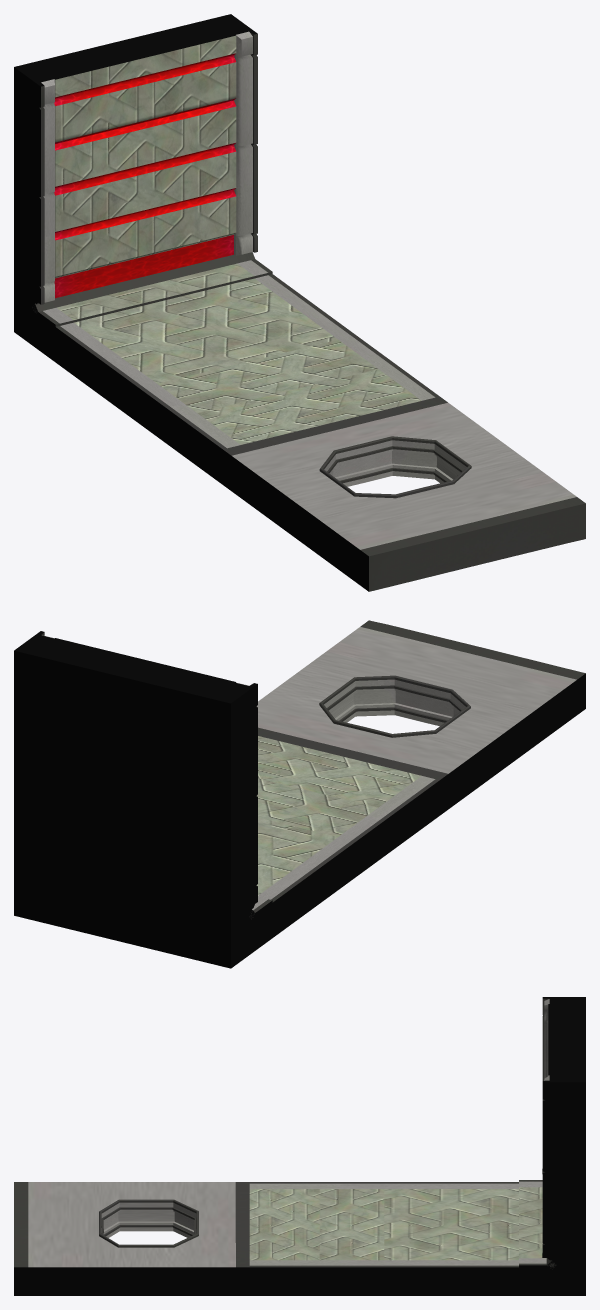
File: FloorWithHole.fbx
3 renders of one model, top to bottom at view 1: azimuth 30°, elevation 25°; view 2: azimuth 150°, elevation 25°; view 3: azimuth 270°, elevation 25°, orthographic. The views are drawn at different scales.
Parts seen in each view (by area): view 1: FloorWithMaintenanceHole; view 2: FloorWithMaintenanceHole; view 3: FloorWithMaintenanceHole.
Boxes of the visible parts, x1=… form: FloorWithMaintenanceHole: x1=14, y1=14, x2=585, y2=591; FloorWithMaintenanceHole: x1=14, y1=620, x2=585, y2=968; FloorWithMaintenanceHole: x1=14, y1=997, x2=585, y2=1295.
Bounding box in the file's own units: 6 × 7 × 17.
1 material, 1 textured.
